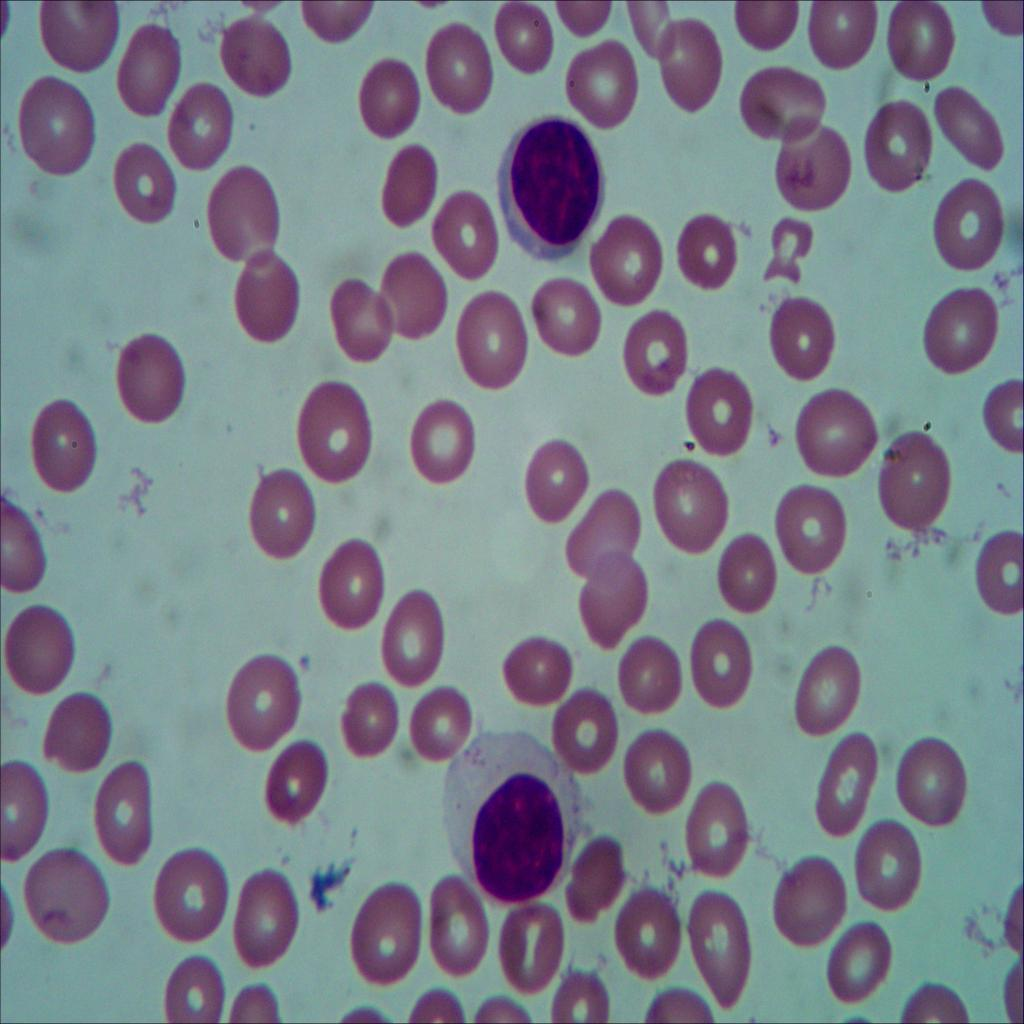Eritrosit: (337, 876, 428, 992), (894, 723, 983, 839), (24, 850, 118, 955), (14, 73, 102, 181), (564, 34, 646, 148), (19, 401, 109, 501), (147, 842, 232, 945), (455, 286, 535, 394), (214, 8, 300, 108), (920, 278, 1001, 384), (300, 374, 374, 490), (590, 204, 666, 316), (857, 95, 939, 198), (424, 182, 505, 282), (234, 243, 308, 352), (810, 728, 882, 840), (492, 888, 568, 994), (774, 124, 854, 224), (795, 387, 881, 480), (650, 452, 729, 553), (686, 365, 763, 468), (659, 4, 725, 122), (97, 745, 157, 874), (223, 653, 298, 755), (337, 670, 409, 776), (931, 82, 1009, 178), (778, 482, 851, 584), (570, 484, 643, 586), (104, 19, 178, 119), (374, 246, 448, 346), (734, 56, 822, 140), (425, 18, 498, 118), (882, 427, 954, 528), (852, 822, 930, 915), (692, 877, 750, 1002), (793, 647, 870, 741), (230, 864, 297, 972), (615, 626, 688, 724), (312, 539, 388, 633), (769, 858, 849, 947), (158, 81, 235, 173), (425, 866, 486, 982), (679, 776, 751, 874), (622, 292, 690, 395), (481, 0, 561, 87), (6, 598, 74, 699), (208, 171, 281, 265), (608, 885, 684, 975), (684, 618, 758, 710), (380, 586, 448, 686), (890, 0, 966, 89), (544, 677, 620, 766), (581, 564, 655, 654), (248, 470, 318, 564), (406, 396, 479, 486), (934, 181, 1004, 274), (41, 685, 115, 772), (528, 431, 593, 530), (818, 916, 892, 1001), (32, 0, 109, 81), (540, 266, 607, 358), (406, 680, 476, 768), (326, 273, 396, 358), (118, 338, 188, 420), (565, 831, 629, 920), (802, 0, 880, 73), (265, 732, 328, 822), (359, 56, 423, 142), (373, 141, 439, 224), (1, 758, 53, 863), (711, 536, 780, 612), (768, 293, 831, 376), (497, 638, 568, 710), (0, 502, 54, 596), (160, 951, 229, 1024), (681, 214, 738, 301), (116, 148, 180, 224), (759, 212, 824, 284), (976, 527, 1024, 623), (630, 736, 696, 804), (548, 970, 623, 1024), (978, 374, 1024, 458)
Limfosit: (447, 730, 588, 908), (492, 114, 609, 264)
Platelet: (291, 647, 315, 671)
